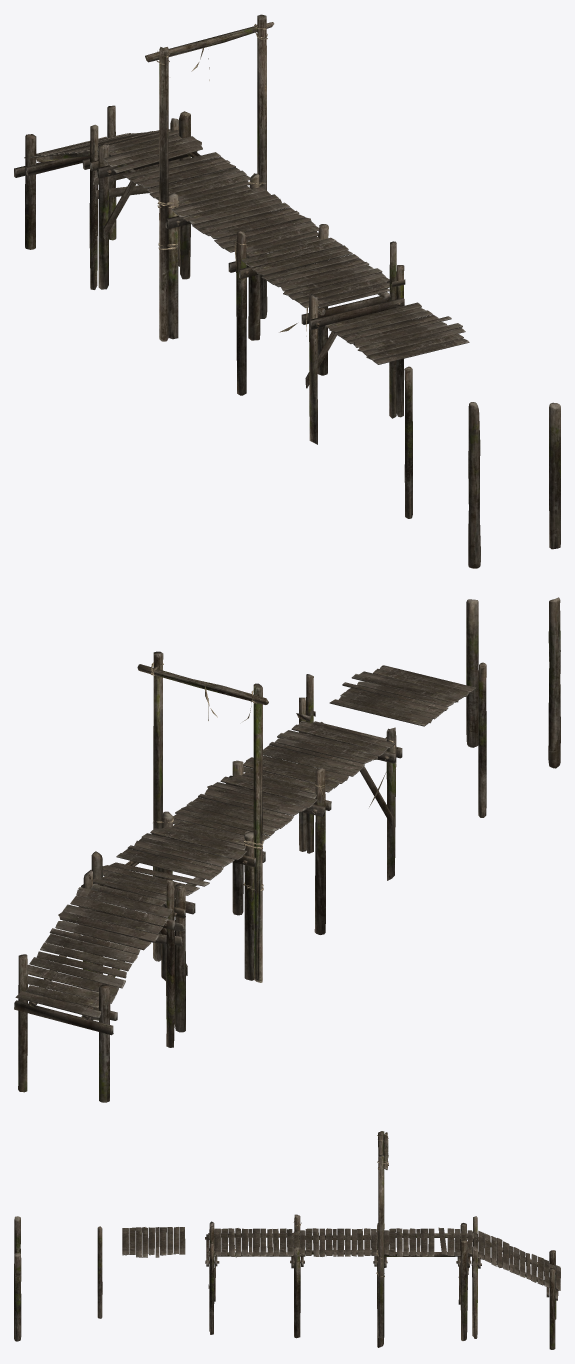
The model's file is modular_wooden_pier.glb.
3 renders of one model, top to bottom at view 1: azimuth 30°, elevation 25°; view 2: azimuth 150°, elevation 25°; view 3: azimuth 270°, elevation 25°, orthographic. The views are drawn at different scales.
Visible parts, largest first — view 1: modular_wooden_pier_planks, modular_wooden_pier_section_01, modular_wooden_pier_poles; view 2: modular_wooden_pier_planks, modular_wooden_pier_section_01, modular_wooden_pier_poles; view 3: modular_wooden_pier_planks, modular_wooden_pier_section_01, modular_wooden_pier_poles.
Part boxes in pixels (x1,y1,x2,y2): modular_wooden_pier_planks: (14, 24, 469, 388); modular_wooden_pier_section_01: (25, 14, 404, 444); modular_wooden_pier_poles: (404, 366, 560, 568); modular_wooden_pier_planks: (14, 662, 476, 1035); modular_wooden_pier_section_01: (18, 651, 396, 1102); modular_wooden_pier_poles: (466, 597, 560, 817); modular_wooden_pier_planks: (122, 1134, 560, 1304); modular_wooden_pier_section_01: (205, 1131, 558, 1349); modular_wooden_pier_poles: (14, 1216, 102, 1341).
Size of the model in its own units: 3.08 by 7.51 by 19.02.
Materials: 2 (2 with a texture image).
